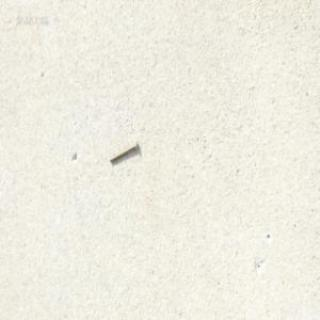Bolttrack_idkeyframe: (108, 138, 137, 162)
